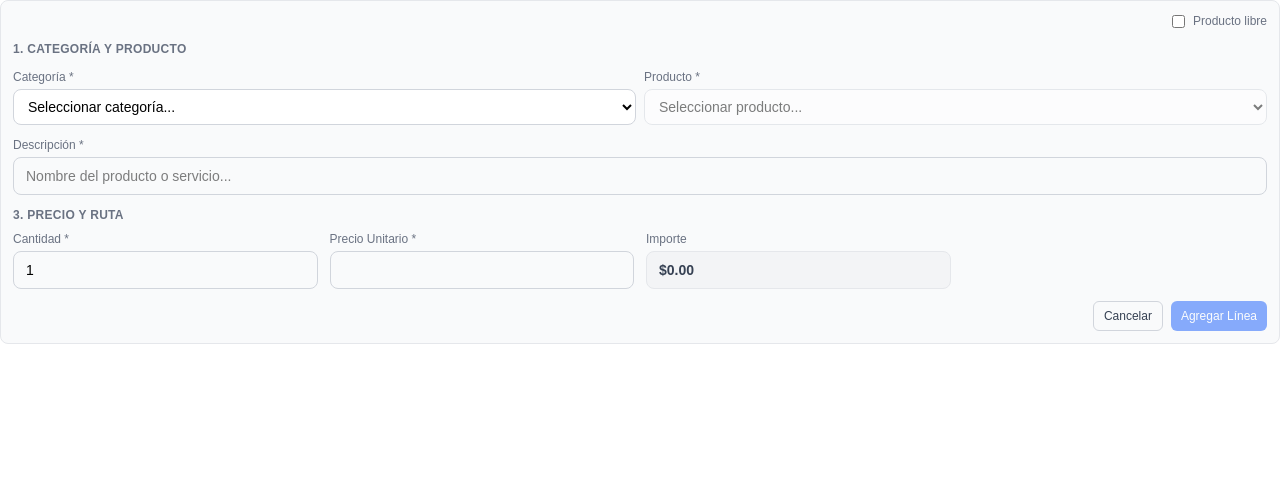
Test: LineaPedido (catálogo) › asigna la ruta del producto y solo muestra ruta tras elegirlo
Expected: the field labelled "Ruta Prod." is not shown
Select "Photo Books" in the dropdown below "Categoría *" at (324, 107), box [13,89,636,125]
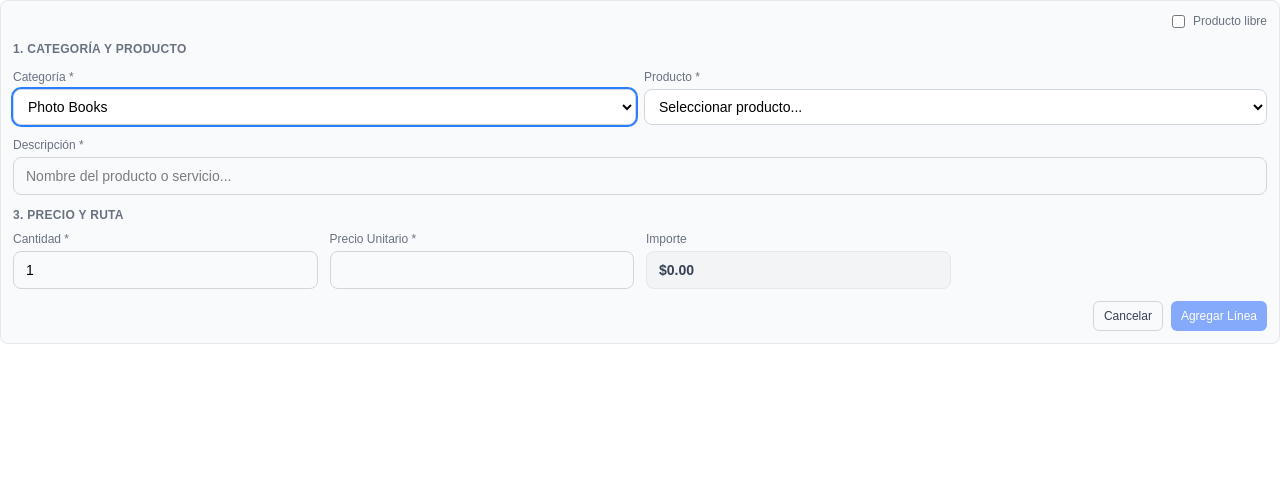
Select "Color Book Pasta Dura" in the dropdown below "Producto *" at (956, 107), box [644,89,1267,125]
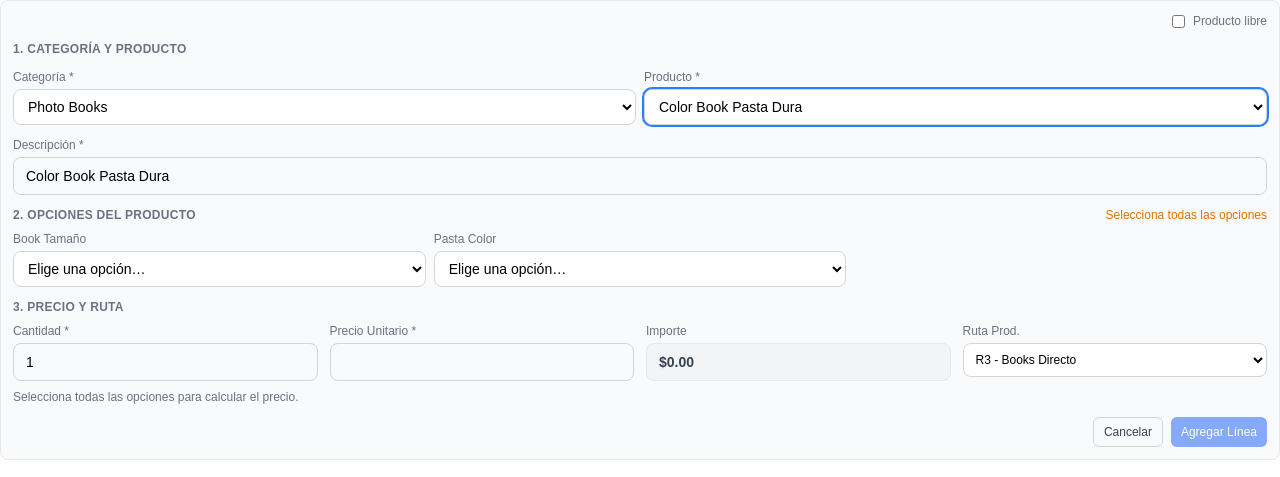
Expected: the dropdown labelled "Ruta Prod." shows "R3 - Books Directo", [962,343,1267,377]
